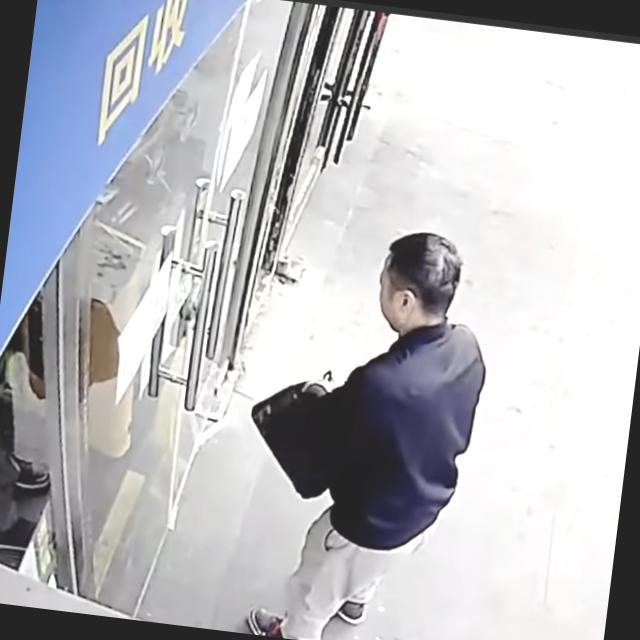person: (221, 211, 504, 640)
